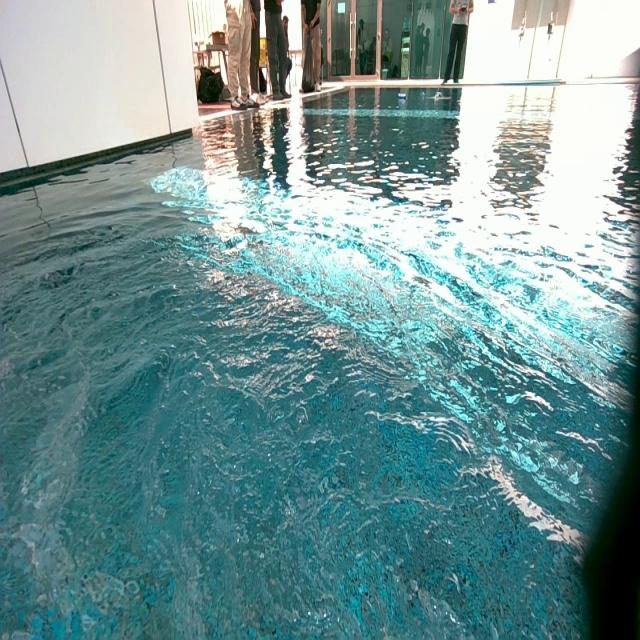Cans: (397, 94, 406, 104), (435, 91, 444, 99), (419, 90, 426, 100)
